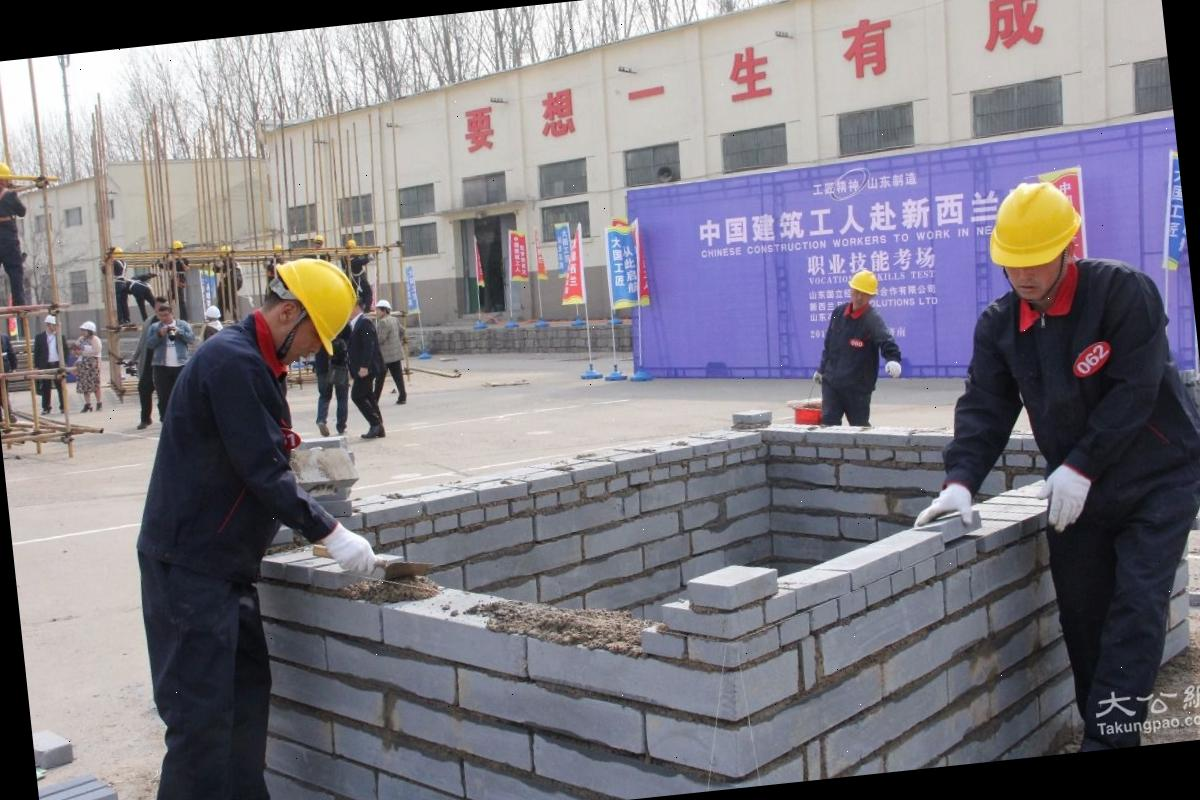helmet: (275, 248, 377, 358), (979, 174, 1087, 272), (844, 267, 885, 296), (0, 158, 17, 185)
no_wear: (140, 316, 196, 368)
wear: (988, 289, 1200, 522), (166, 338, 302, 612), (822, 298, 886, 399), (0, 184, 24, 250)
